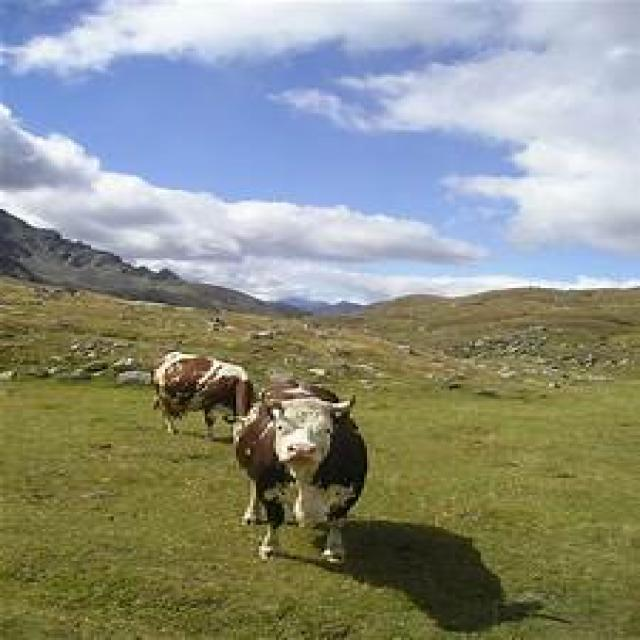animal: (241, 380, 372, 561), (158, 348, 248, 432)
